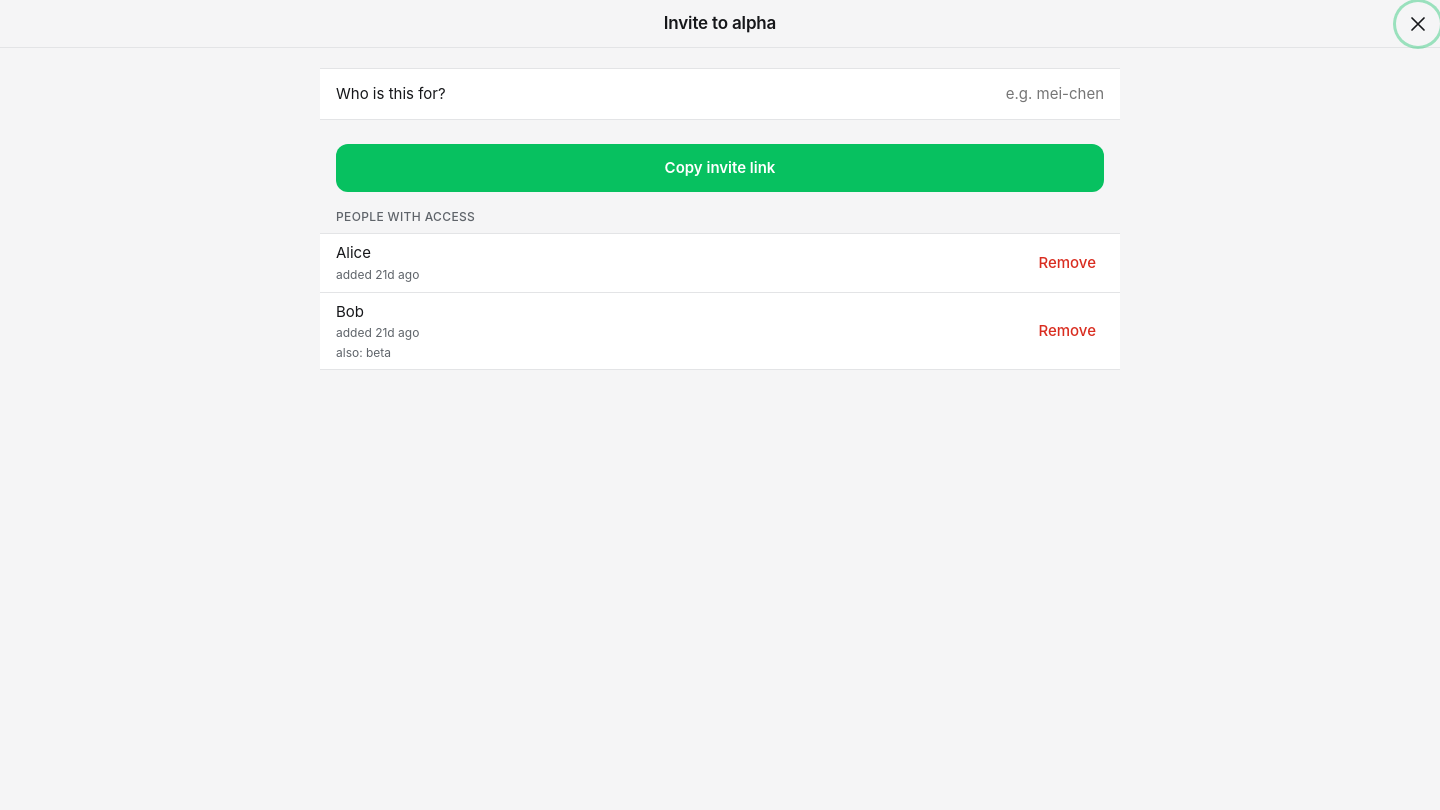
Test: errors › a failed remove says so and leaves the person on the list
This screenshot has width=1440, height=810.
Click the button "Remove" in the row of "Alice".
click(1067, 263)  # box [1030,248,1104,278]
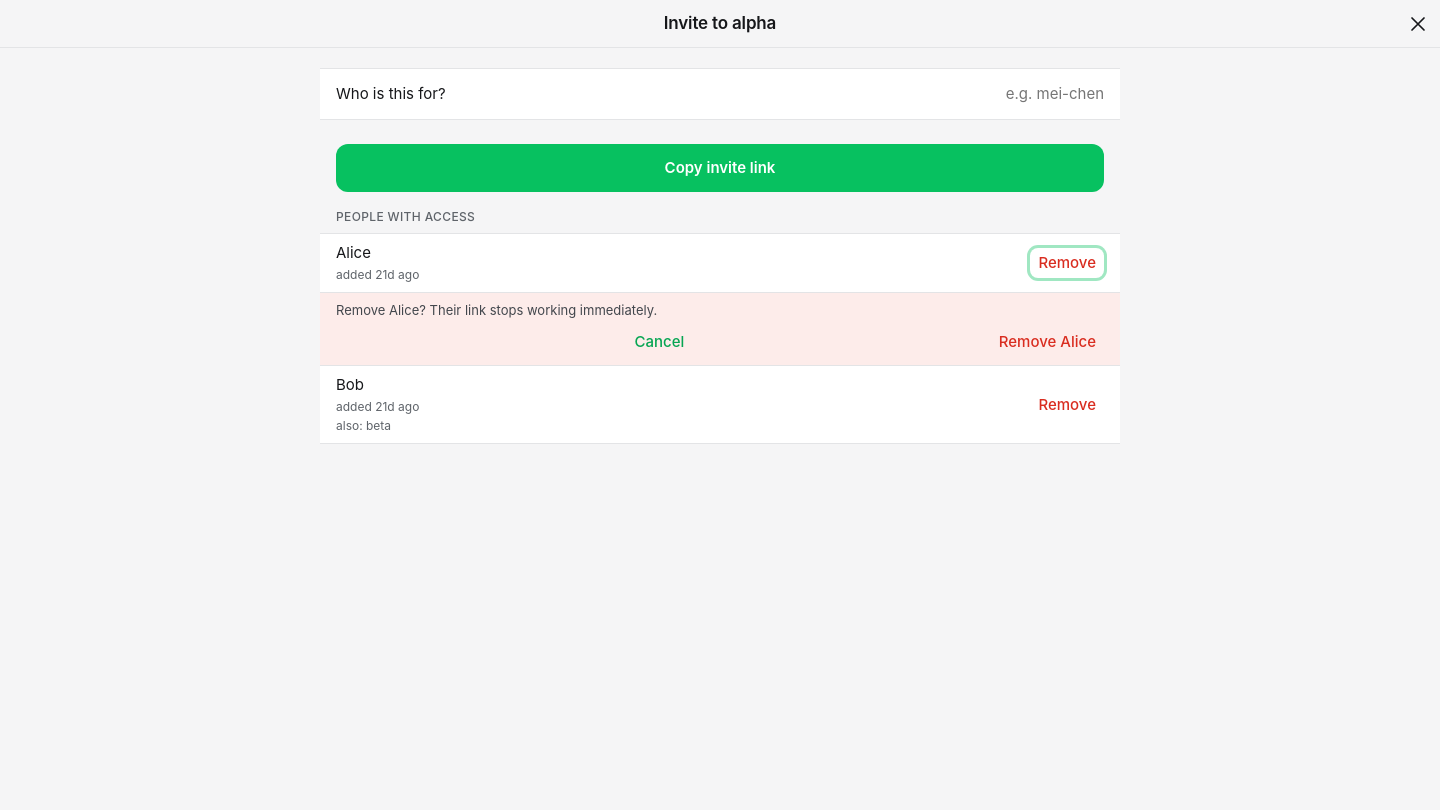
Click the button "Remove Alice".
click(1047, 342)  # box [991,327,1104,357]
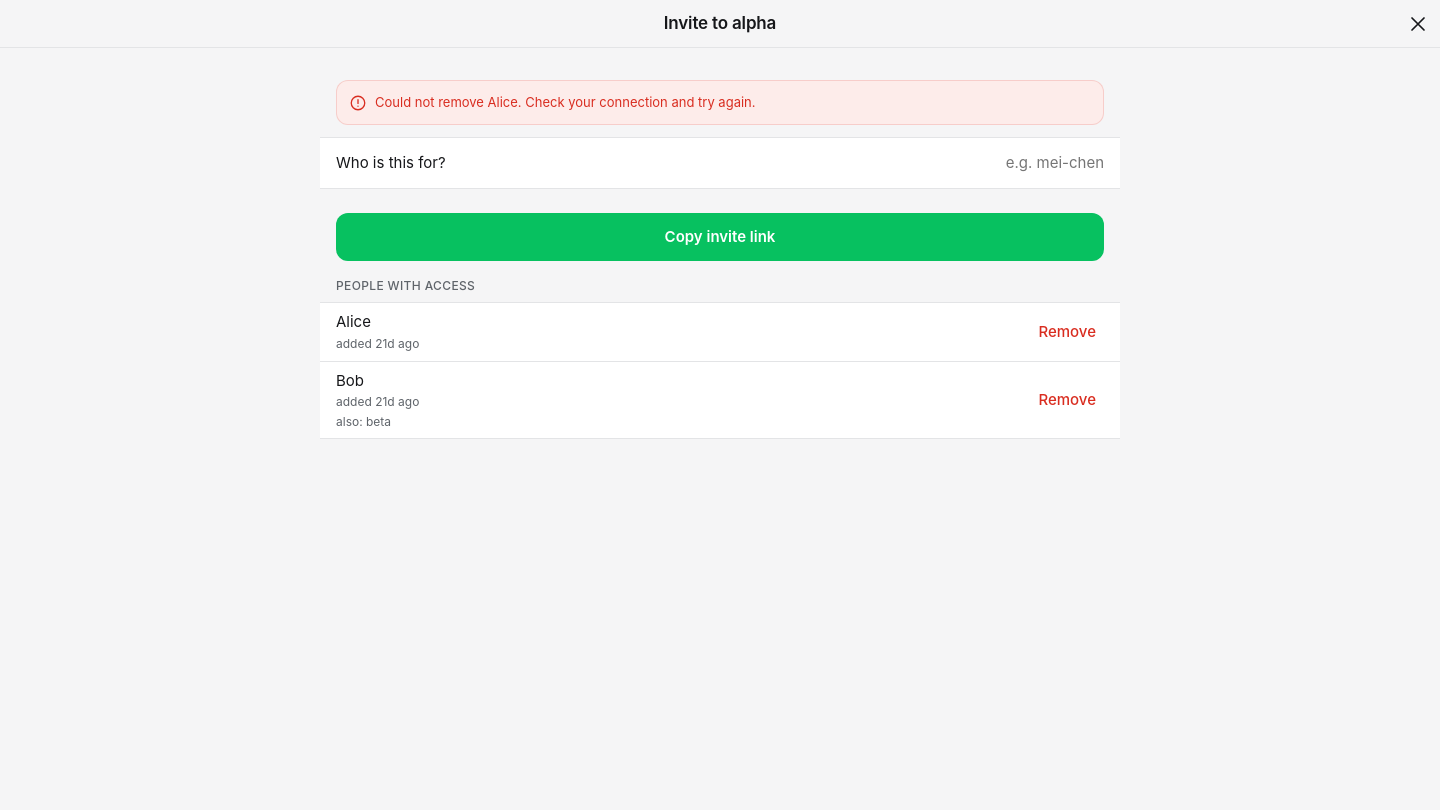
Expected: the text "Alice" is shown, [336,312,371,331]
Result: the message reads "Could not remove Alice. Check your connection and try again." at [375,94,756,110]
